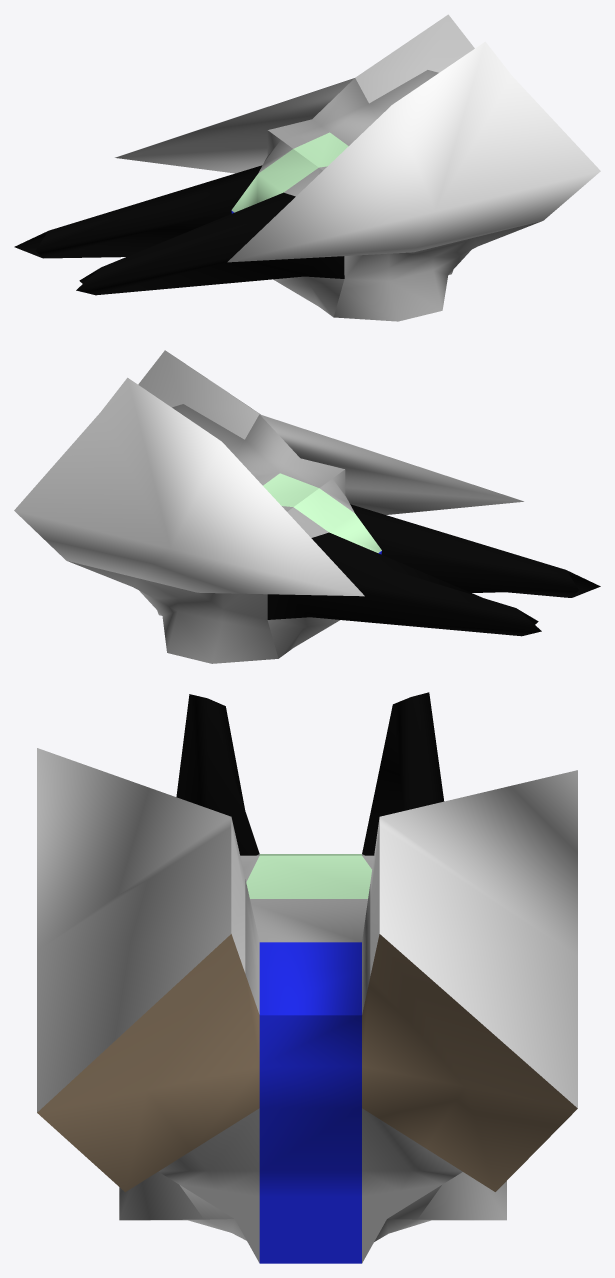
File: turret.FBX
3 views of the same model, one above another, from view 1: azimuth 30°, elevation 25°; view 2: azimuth 150°, elevation 25°; view 3: azimuth 270°, elevation 25° (orthographic). The views are drawn at different scales.
Visible parts, largest first — view 1: Box001; view 2: Box001; view 3: Box001.
Part boxes in pixels (x1,y1,x2,y2): Box001: (14, 14, 600, 321); Box001: (14, 350, 600, 663); Box001: (37, 692, 577, 1263).
Bounding box in the file's own units: 91.94 × 41.6 × 44.05.
